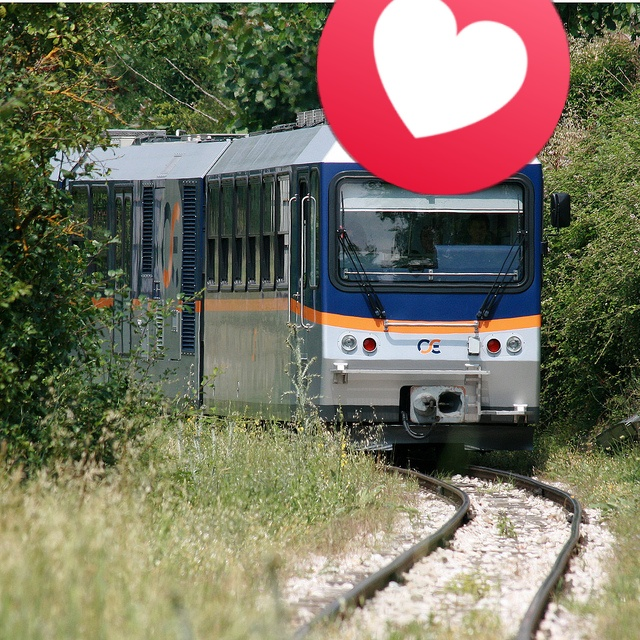love: (317, 0, 570, 195)
